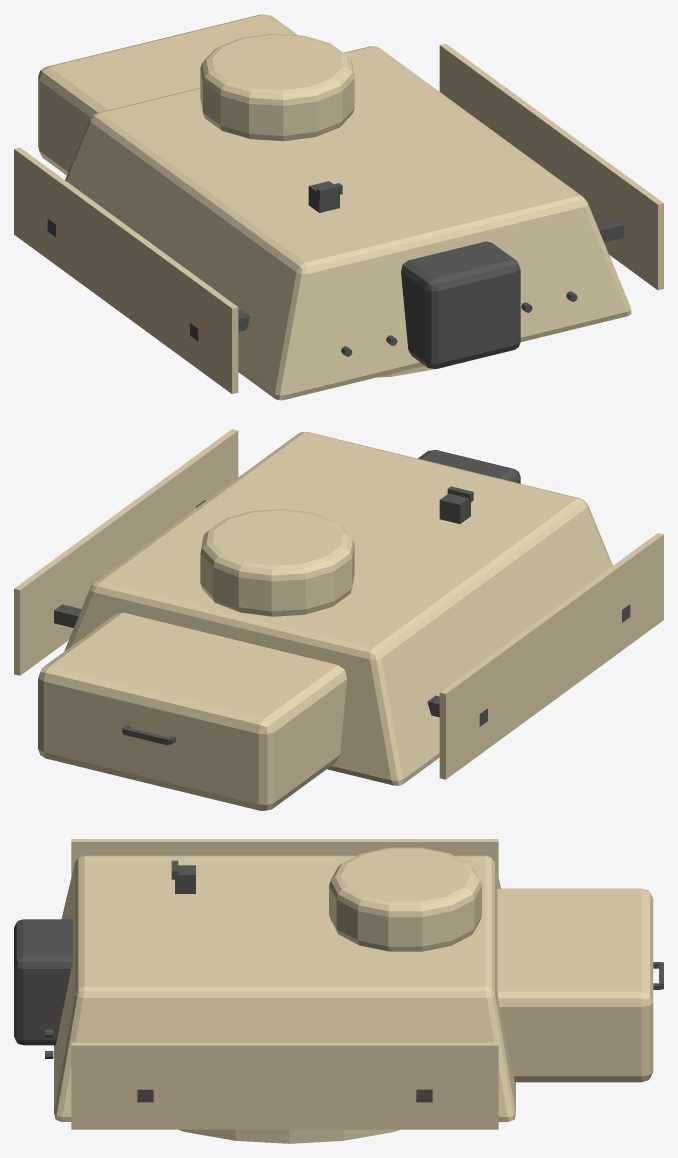
File: medium_turret_angular.glb
3 views of the same model, one above another, from view 1: azimuth 30°, elevation 25°; view 2: azimuth 150°, elevation 25°; view 3: azimuth 270°, elevation 25° (orthographic). The views are drawn at different scales.
Visible parts, largest first — view 1: turret_shell, skirt_turret_r, cupola, skirt_turret_l, turret_bustle, gun_mantlet, cmdr_periscope_base; view 2: turret_shell, turret_bustle, skirt_turret_r, cupola, skirt_turret_l, gun_mantlet, cmdr_periscope_base; view 3: turret_shell, skirt_turret_l, turret_bustle, cupola, skirt_turret_r, gun_mantlet, turret_ring, cmdr_periscope_base.
Part boxes in pixels (box(x1,y1,x2,y2)): turret_shell: box(65, 46, 631, 400); skirt_turret_r: box(14, 147, 238, 393); cupola: box(200, 33, 354, 141); skirt_turret_l: box(439, 43, 663, 290); turret_bustle: box(38, 14, 297, 175); gun_mantlet: box(401, 241, 520, 368); cmdr_periscope_base: box(308, 181, 339, 212); turret_shell: box(64, 432, 612, 785); turret_bustle: box(38, 612, 347, 810); skirt_turret_r: box(439, 533, 663, 779); cupola: box(200, 509, 354, 616); skirt_turret_l: box(14, 429, 238, 675); gun_mantlet: box(418, 450, 520, 483); cmdr_periscope_base: box(439, 493, 470, 523); turret_shell: box(54, 855, 515, 1121); skirt_turret_l: box(71, 1042, 498, 1129); turret_bustle: box(497, 888, 653, 1082); cupola: box(329, 847, 481, 951); skirt_turret_r: box(71, 839, 498, 876); gun_mantlet: box(14, 919, 72, 1045); turret_ring: box(179, 1129, 400, 1143); cmdr_periscope_base: box(175, 865, 195, 893).
Size of the model in its own units: 2.11 by 0.86 by 2.81.
